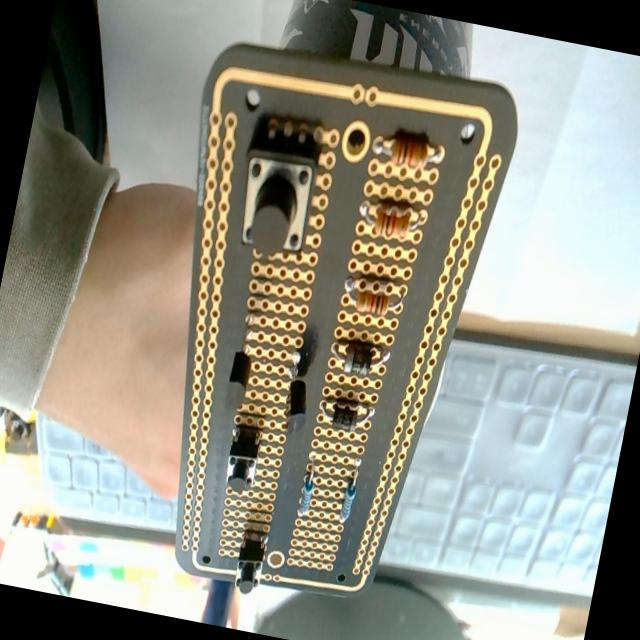diode: (324, 317, 404, 383), (312, 388, 386, 445)
resistor: (347, 185, 436, 250), (364, 118, 454, 174), (337, 272, 411, 322), (331, 452, 366, 534), (296, 456, 322, 528)
switch: (220, 120, 326, 278), (218, 430, 264, 499), (230, 539, 268, 601)
transistor: (275, 322, 328, 442), (218, 302, 270, 420)
